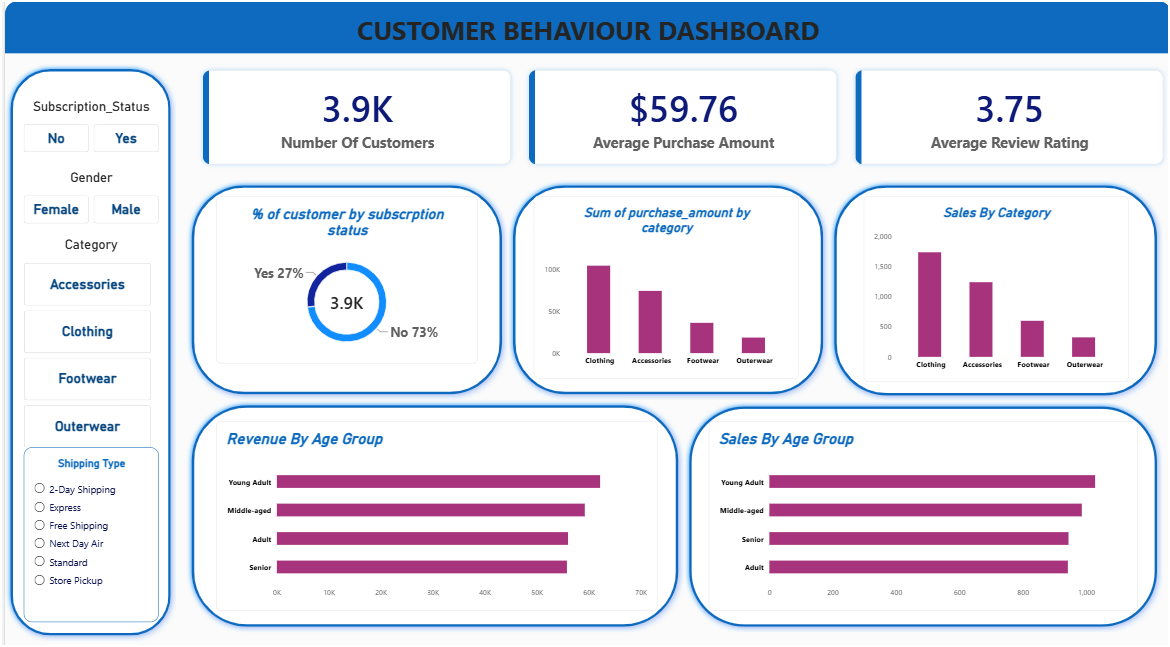

Layout of this report page (visuals, bound fields, positions):
{"tool":"powerbi","page":{"name":"Page 1","canvas":[1920,1080],"ordinal":0},"visuals":[{"type":"cardVisual","fields":{"Data":["public customer.Number Of Customers","public customer.Average Purchase Amount","public customer.Average Review Rating"]},"box":[314.9,102.9,1605.5,177],"z":0},{"type":"shape","box":[0,0,1920.4,86.4],"z":1},{"type":"textbox","box":[0,0,1920.4,86.4],"z":2},{"type":"shape","box":[298.5,294.3,529,362.3],"z":3},{"type":"donutChart","title":"% of customer by subscrption status","fields":{"Category":["public customer.subscription_status"],"Y":["CountNonNull(public customer.customer_id)"]},"box":[347.9,321.1,430.2,275.8],"z":4},{"type":"shape","box":[1356.4,294.3,549.6,364.3],"z":5},{"type":"shape","box":[827.4,294.3,529,362.3],"z":6},{"type":"shape","box":[1117.7,658.7,788.3,380.8],"z":7},{"type":"shape","box":[298.5,656.6,819.2,382.8],"z":8},{"type":"shape","box":[0,102.9,282,950.9],"z":9},{"type":"clusteredColumnChart","fields":{"Category":["public customer.category"],"Y":["Sum(public customer.purchase_amount)"]},"box":[870.7,321.1,436.4,300.5],"z":10},{"type":"clusteredColumnChart","title":"Sales By Category","fields":{"Category":["public customer.category"],"Y":["CountNonNull(public customer.customer_id)"]},"box":[1414.1,321.1,436.4,306.7],"z":11},{"type":"advancedSlicerVisual","title":"Subscription_Status","fields":{"Values":["public customer.subscription_status"]},"box":[30.9,160.5,222.3,88.5],"z":12},{"type":"advancedSlicerVisual","title":"Gender","fields":{"Values":["public customer.gender"]},"box":[30.9,277.9,222.3,88.5],"z":13},{"type":"advancedSlicerVisual","title":"Category","fields":{"Values":["public customer.category"]},"box":[30.9,389,222.3,345.8],"z":14},{"type":"listSlicer","title":"Shipping Type","fields":{"Values":["public customer.shipping_type"]},"box":[30.9,734.8,222.3,288.2],"z":15},{"type":"clusteredBarChart","title":"Revenue By Age Group","fields":{"Category":["public customer.age_group"],"Y":["Sum(public customer.purchase_amount)"]},"box":[347.9,691.6,726.6,312.9],"z":16},{"type":"clusteredBarChart","title":"Sales By Age Group","fields":{"Category":["public customer.age_group"],"Y":["CountNonNull(public customer.customer_id)"]},"box":[1158.8,691.6,706,312.9],"z":17}]}

Visuals, with their boxes in screenshot pixels (x1, y1, x2, y2), scaled from the page's 1920x1080 canvas onto the 1170x647 screenshot:
cardVisual - public customer.Number Of Customers x public customer.Average Purchase Amount: 192:62:1169:168
shape: 0:0:1169:52
textbox: 0:0:1169:52
shape: 182:176:504:393
"% of customer by subscrption status" donutChart: 212:192:474:358
shape: 827:176:1161:395
shape: 504:176:827:393
shape: 681:395:1161:623
shape: 182:393:681:623
shape: 0:62:172:631
clusteredColumnChart - public customer.category x Sum(public customer.purchase_amount): 531:192:797:372
"Sales By Category" clusteredColumnChart: 862:192:1128:376
"Subscription_Status" advancedSlicerVisual: 19:96:154:149
"Gender" advancedSlicerVisual: 19:166:154:220
"Category" advancedSlicerVisual: 19:233:154:440
"Shipping Type" listSlicer: 19:440:154:613
"Revenue By Age Group" clusteredBarChart: 212:414:655:602
"Sales By Age Group" clusteredBarChart: 706:414:1136:602
